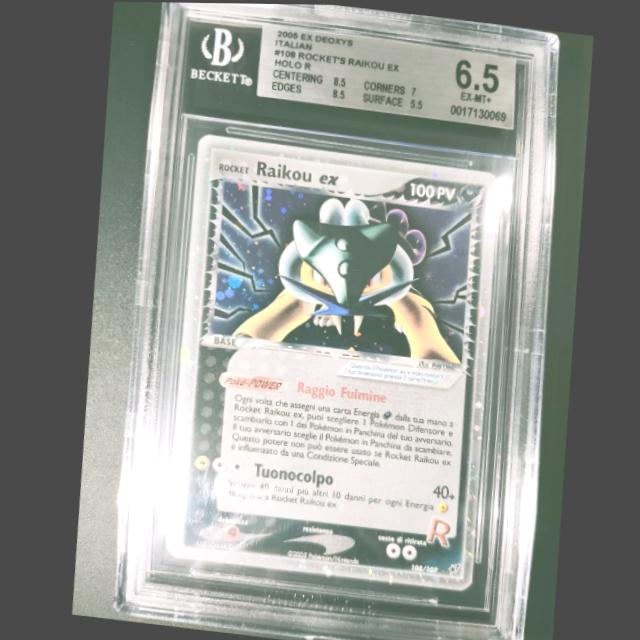bgs_label: (253, 20, 516, 128)
bgs_slab: (106, 2, 559, 640)
card: (160, 131, 498, 591)
